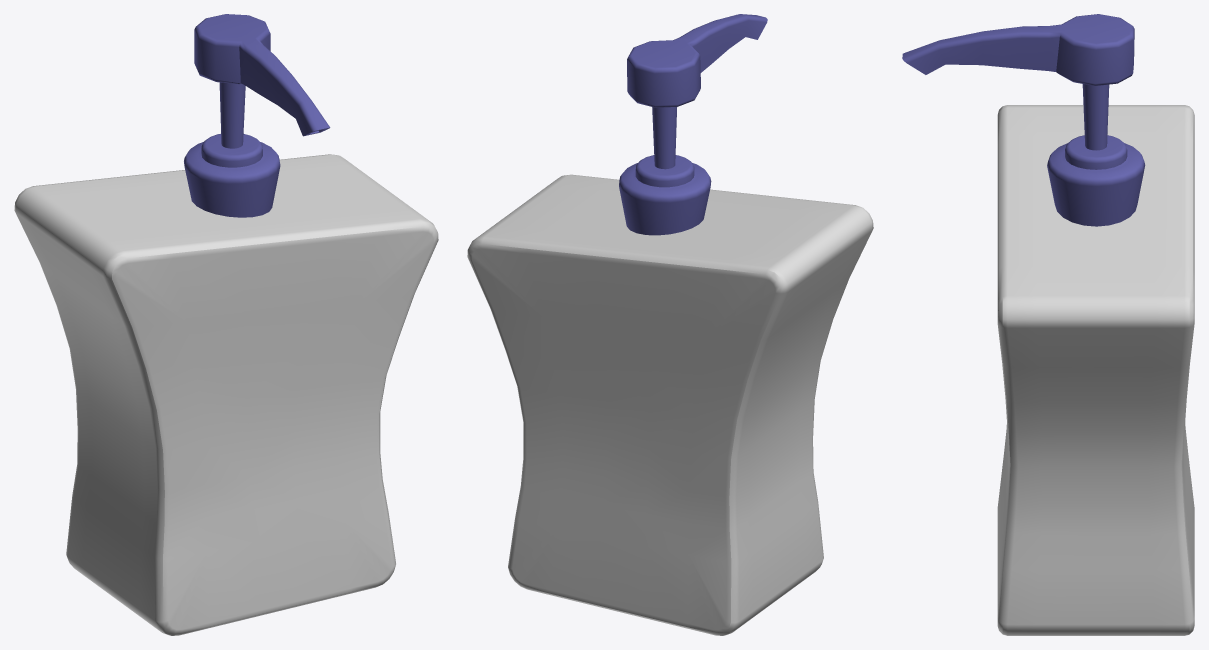
Rendered from LotionBottle.fbx.
3 renders of one model, left to right at view 1: azimuth 30°, elevation 25°; view 2: azimuth 150°, elevation 25°; view 3: azimuth 270°, elevation 25°, orthographic. The views are drawn at different scales.
Visible parts, largest first — view 1: LotionBottle; view 2: LotionBottle; view 3: LotionBottle.
Part boxes in pixels (bbox=[...]): LotionBottle: bbox=[14, 14, 438, 635]; LotionBottle: bbox=[467, 14, 873, 635]; LotionBottle: bbox=[902, 14, 1194, 635].
Size of the model in its own units: 14.05 by 22.15 by 10.52.
